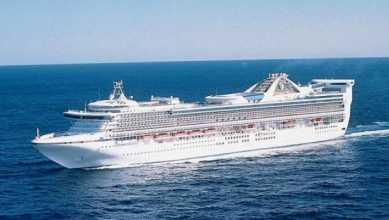youlun: (30, 71, 358, 169)
